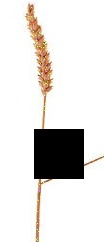wheat: (23, 1, 55, 106)
